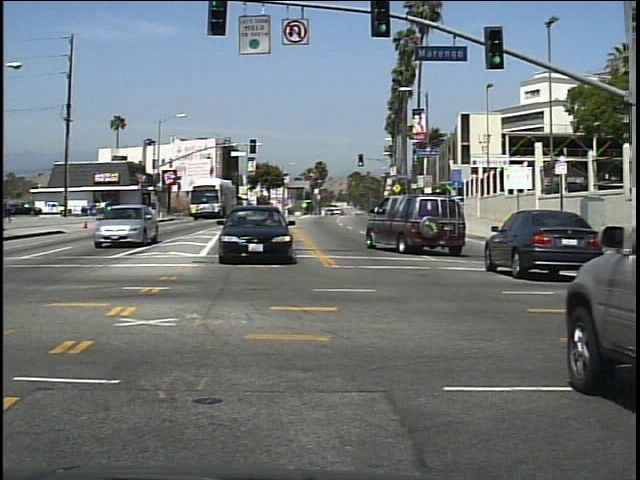person: (4, 198, 18, 227)
